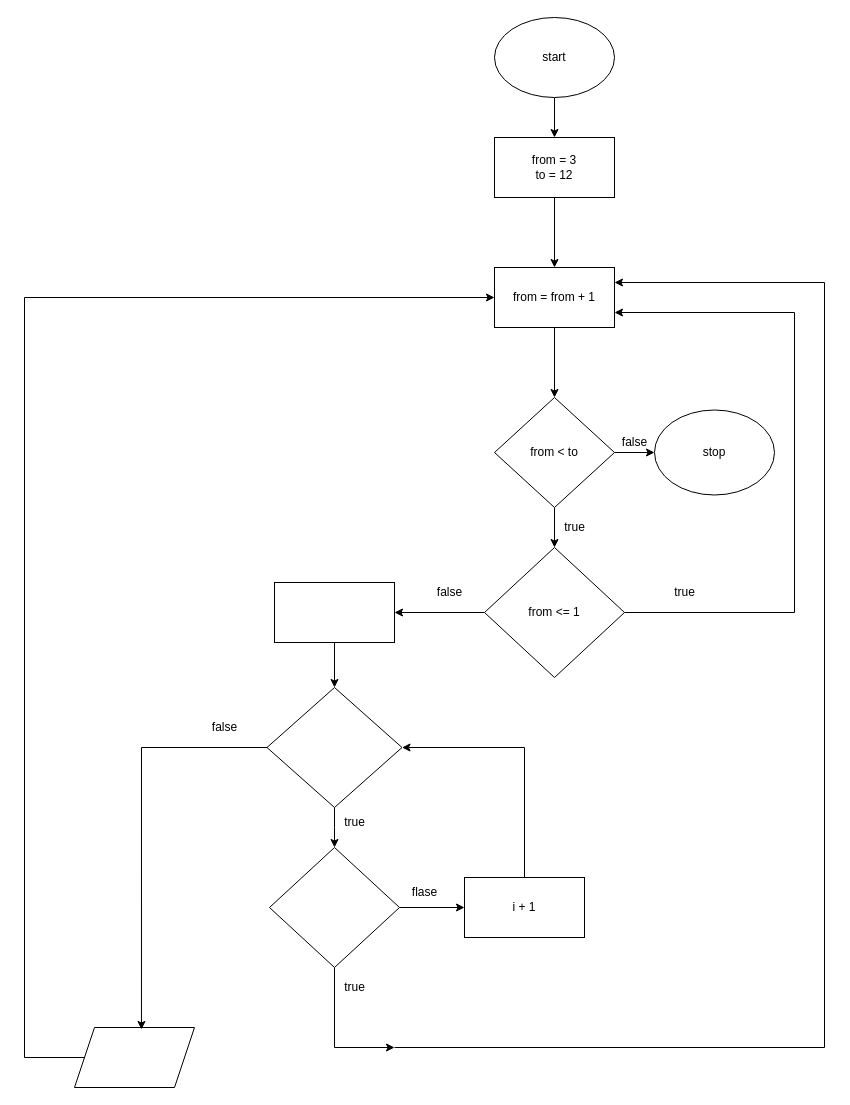
Image size: 850x1105. Some labels were removed from this diagram. The centre of each missing label's shape, as x and y in pixels:
from % i == 0: (334,907)
i < from: (334,747)
i = 2: (334,612)
print from: (134,1057)
